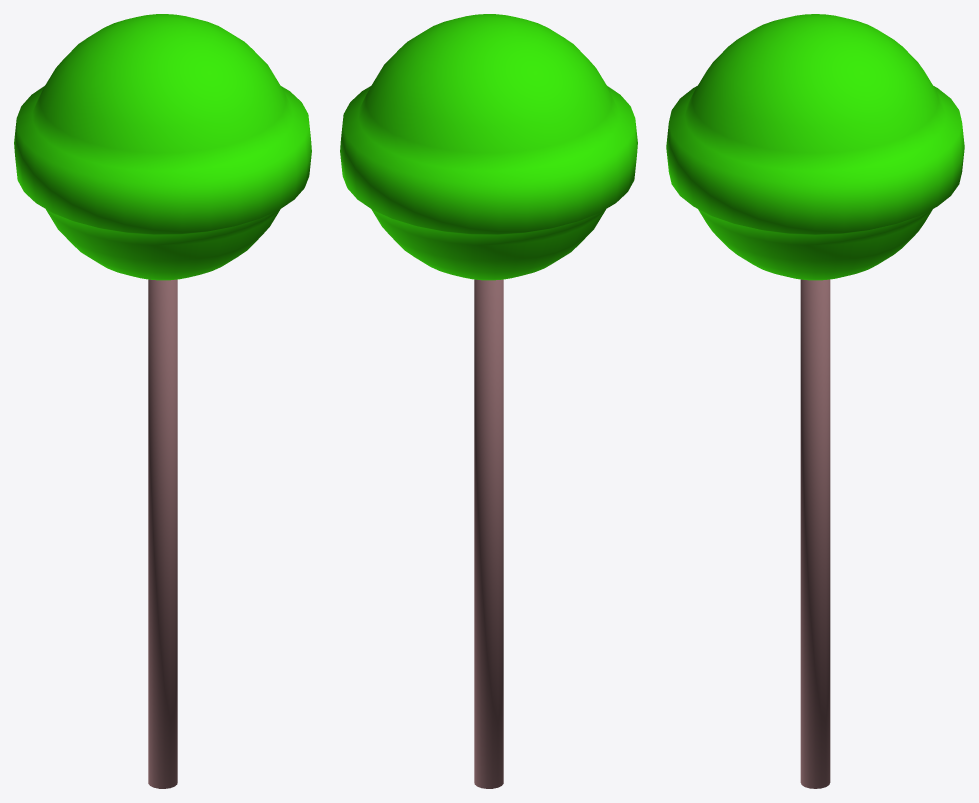
File: lizak kulka.fbx
3 views of the same model, side by side, from view 1: azimuth 30°, elevation 25°; view 2: azimuth 150°, elevation 25°; view 3: azimuth 270°, elevation 25° (orthographic).
Parts seen in each view (by area): view 1: kulka; view 2: kulka; view 3: kulka.
Boxes of the visible parts, x1,y1,x2,y2 form: kulka: [14, 14, 311, 788]; kulka: [340, 14, 637, 788]; kulka: [666, 14, 964, 788].
Size of the model in its own units: 125 by 348 by 125.
